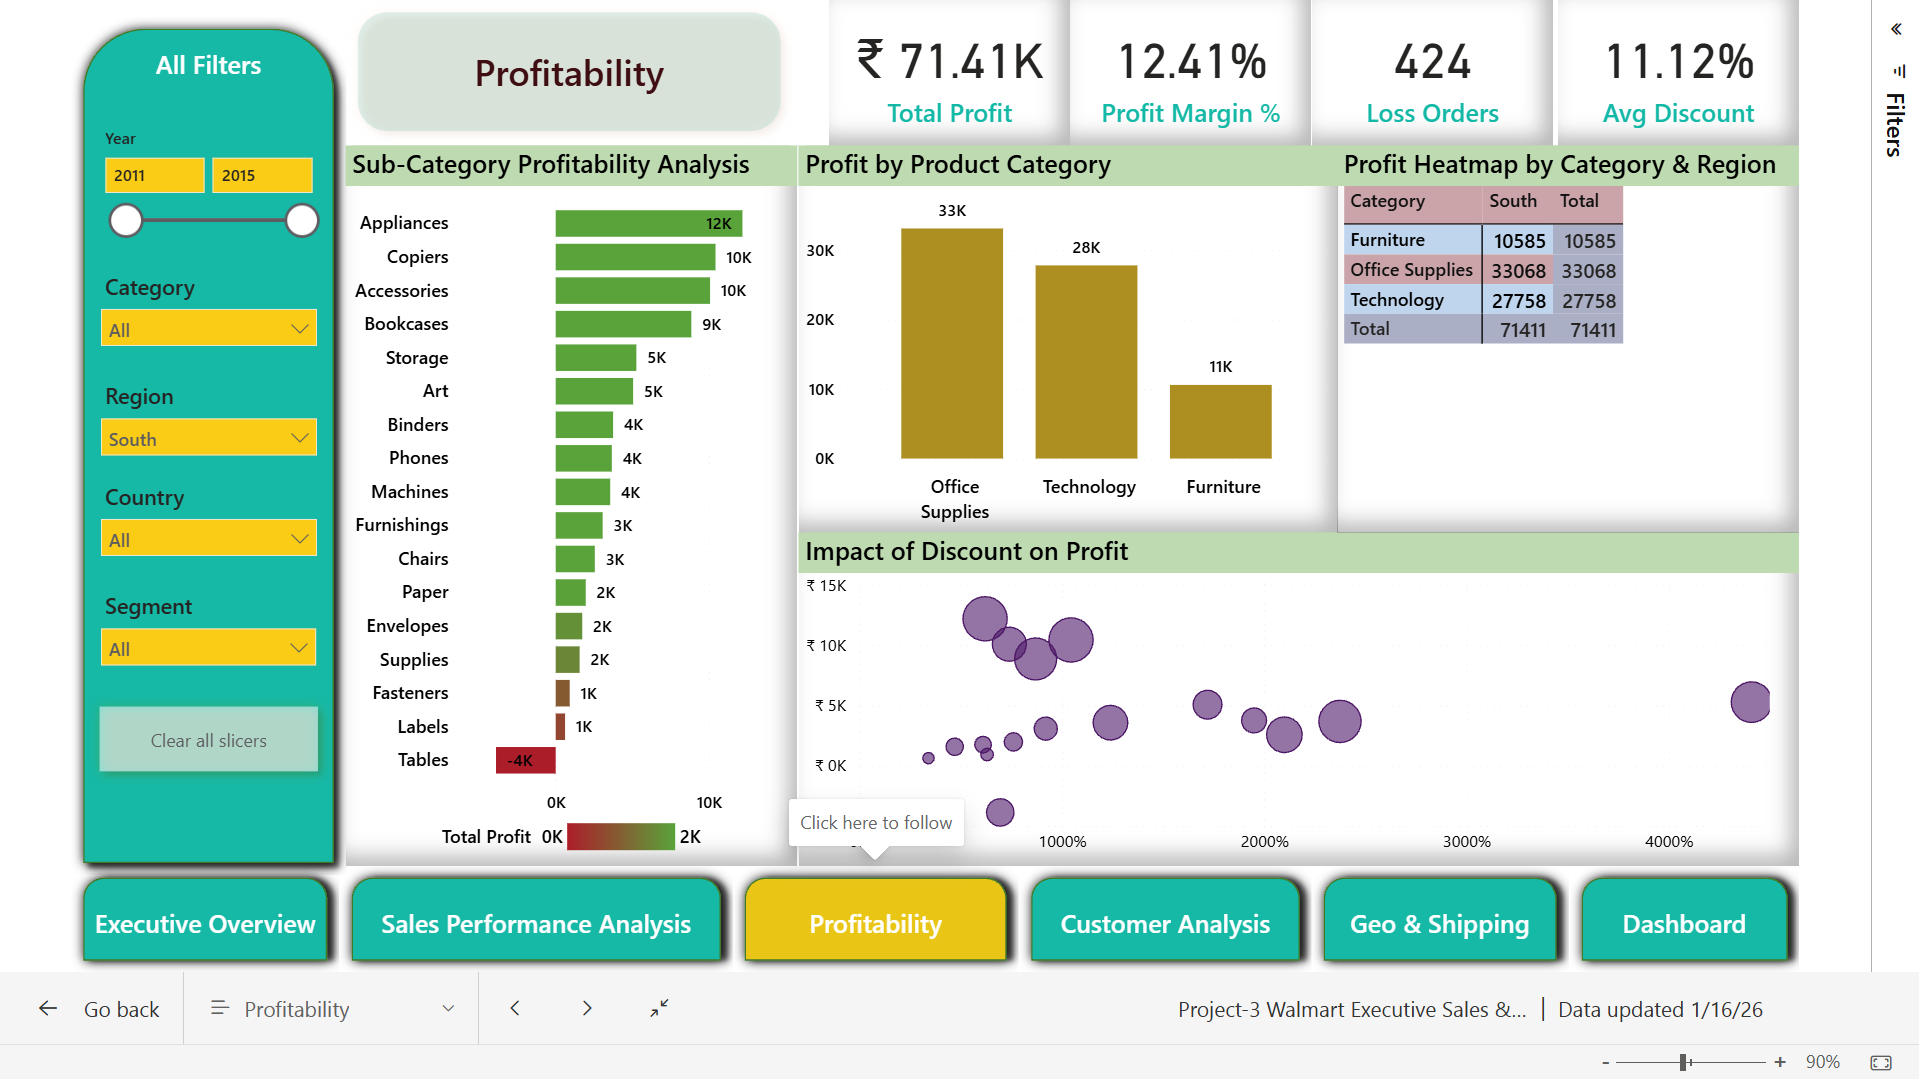

This screenshot's page, from the dashboard's own definition file:
{"tool":"powerbi","page":{"name":"Profitability","canvas":[1280,720],"ordinal":2},"visuals":[{"type":"shape","box":[0,12.3,203.7,636.1],"z":0,"group":"g1"},{"type":"group","id":"g1","title":"Group 1","box":[0,12.3,203.7,637.9],"z":0,"group":"g2"},{"type":"shape","box":[0,641.1,198.8,79.5],"z":0},{"type":"slicer","fields":{"Values":["Dim_Date.Year"]},"box":[11.9,88.8,180,97.3],"z":1000,"group":"g1"},{"type":"slicer","fields":{"Values":["Dim_Customer.Segment"]},"box":[12.3,432.1,179,94.7],"z":1000,"group":"g2"},{"type":"shape","box":[198.8,641.1,291.5,79.5],"z":1000},{"type":"slicer","fields":{"Values":["Dim_Product.Category"]},"box":[12.3,195.8,179.7,89.2],"z":2000,"group":"g1"},{"type":"shape","box":[490.3,641.1,212,79.5],"z":2000},{"type":"slicer","fields":{"Values":["Dim_Customer.Region"]},"box":[12.3,276.6,179.7,85],"z":3000,"group":"g1"},{"type":"shape","box":[702.3,641.1,217,79.5],"z":3000},{"type":"slicer","fields":{"Values":["Dim_Customer.Country"]},"box":[12.3,350.9,179.7,87.1],"z":4000,"group":"g1"},{"type":"shape","box":[919.3,641.1,190.5,79.5],"z":4000},{"type":"actionButton","box":[12.3,514.6,179.7,65.9],"z":5000,"group":"g1"},{"type":"shape","box":[1109.8,641.1,170.6,79.5],"z":5000},{"type":"group","id":"g2","title":"Group 2","box":[0,12.3,203.7,637.9],"z":6000},{"type":"card","fields":{"Values":["Fact_Sales.Total Profit"]},"box":[561.5,0,178.9,107.7],"z":6001},{"type":"card","fields":{"Values":["Fact_Sales.Profit Margin %"]},"box":[740.4,0,178.9,107.7],"z":6002},{"type":"card","fields":{"Values":["Fact_Sales.Loss Orders"]},"box":[919.3,0,178.9,107.7],"z":6003},{"type":"card","fields":{"Values":["Fact_Sales.Avg Discount"]},"box":[1101.6,0,178.9,107.7],"z":6004},{"type":"barChart","title":" Sub-Category Profitability Analysis","fields":{"Category":["Fact_Sales.Sub-Category"],"Y":["Fact_Sales.Total Profit"]},"box":[203.7,107.7,334.6,533.4],"z":6005},{"type":"clusteredColumnChart","title":"Profit by Product Category","fields":{"Category":["Dim_Product.Category"],"Y":["Fact_Sales.Total Profit"]},"box":[538.4,107.7,399.2,286.6],"z":6006},{"type":"scatterChart","title":"Impact of Discount on Profit","fields":{"Category":["Dim_Product.Sub-Category"],"Size":["Fact_Sales.Total Sales"],"X":["Sum(Fact_Sales.Discount)"],"Y":["Fact_Sales.Total Profit"]},"box":[538.4,394.2,742.1,246.8],"z":6007},{"type":"pivotTable","title":"Profit Heatmap by Category & Region","fields":{"Columns":["Dim_Customer.Region"],"Rows":["Dim_Product.Category"],"Values":["Fact_Sales.Total Profit"]},"box":[937.6,107.7,342.9,286.6],"z":6008},{"type":"shape","box":[203.7,0,331.3,106],"z":6009}]}

Visuals, with their boxes on the page's 1280x720 design canvas (x1, y1, x2, y2). These are canvas units, not pixel positions in the 1919x1079 screenshot, which may show the page scaled, cropped or inside an application window:
shape: crop(0, 12, 204, 648)
"Group 1" group: crop(0, 12, 204, 650)
shape: crop(0, 641, 199, 721)
slicer - Dim_Date.Year: crop(12, 89, 192, 186)
slicer - Dim_Customer.Segment: crop(12, 432, 191, 527)
shape: crop(199, 641, 490, 721)
slicer - Dim_Product.Category: crop(12, 196, 192, 285)
shape: crop(490, 641, 702, 721)
slicer - Dim_Customer.Region: crop(12, 277, 192, 362)
shape: crop(702, 641, 919, 721)
slicer - Dim_Customer.Country: crop(12, 351, 192, 438)
shape: crop(919, 641, 1110, 721)
actionButton: crop(12, 515, 192, 580)
shape: crop(1110, 641, 1280, 721)
"Group 2" group: crop(0, 12, 204, 650)
card - Fact_Sales.Total Profit: crop(562, 0, 740, 108)
card - Fact_Sales.Profit Margin %: crop(740, 0, 919, 108)
card - Fact_Sales.Loss Orders: crop(919, 0, 1098, 108)
card - Fact_Sales.Avg Discount: crop(1102, 0, 1280, 108)
" Sub-Category Profitability Analysis" barChart: crop(204, 108, 538, 641)
"Profit by Product Category" clusteredColumnChart: crop(538, 108, 938, 394)
"Impact of Discount on Profit" scatterChart: crop(538, 394, 1280, 641)
"Profit Heatmap by Category & Region" pivotTable: crop(938, 108, 1280, 394)
shape: crop(204, 0, 535, 106)
